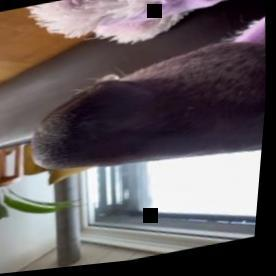nasal_discharge: (78, 63, 142, 112)
